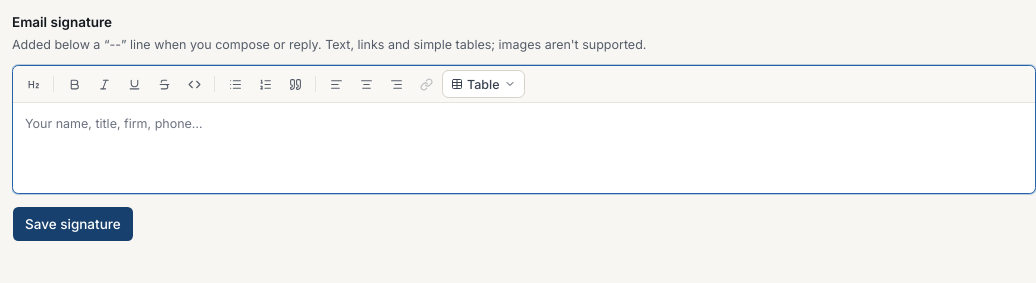
Test: EmailSignatureForm › shows the action's error
The image size is (1036, 283).
What coordinates should you click on to do the following:
click the button "Save signature"
I would click on:
 (73, 224)
Its box is left=12, top=206, right=134, bottom=242.
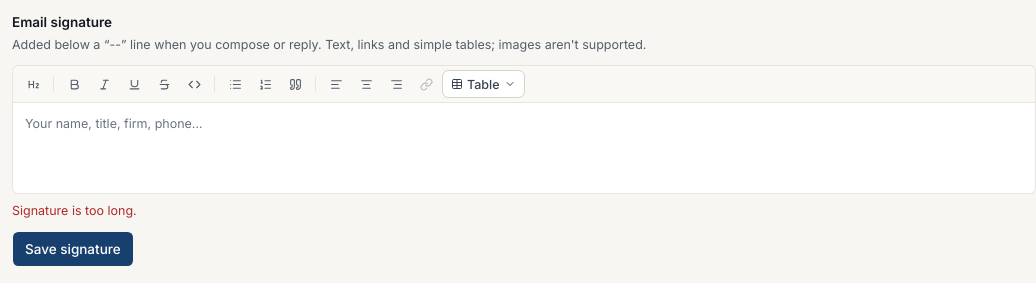
Check: the message reads "Signature is too long.", box left=12, top=203, right=137, bottom=218
